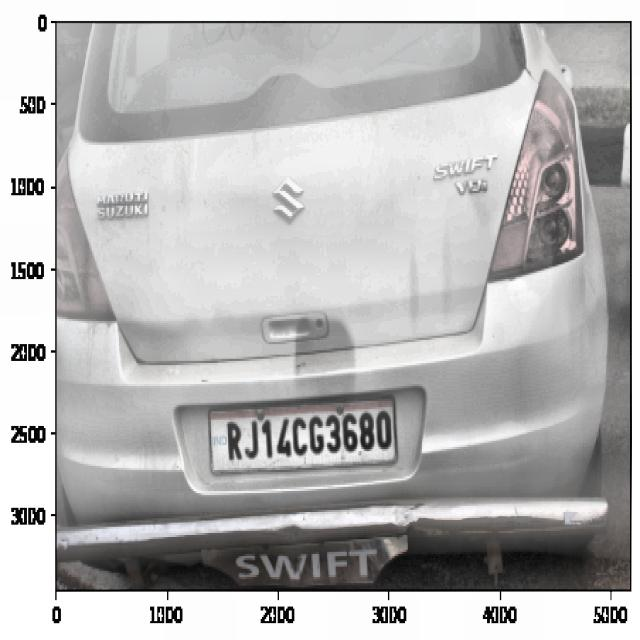license_plate: (218, 402, 399, 469)
